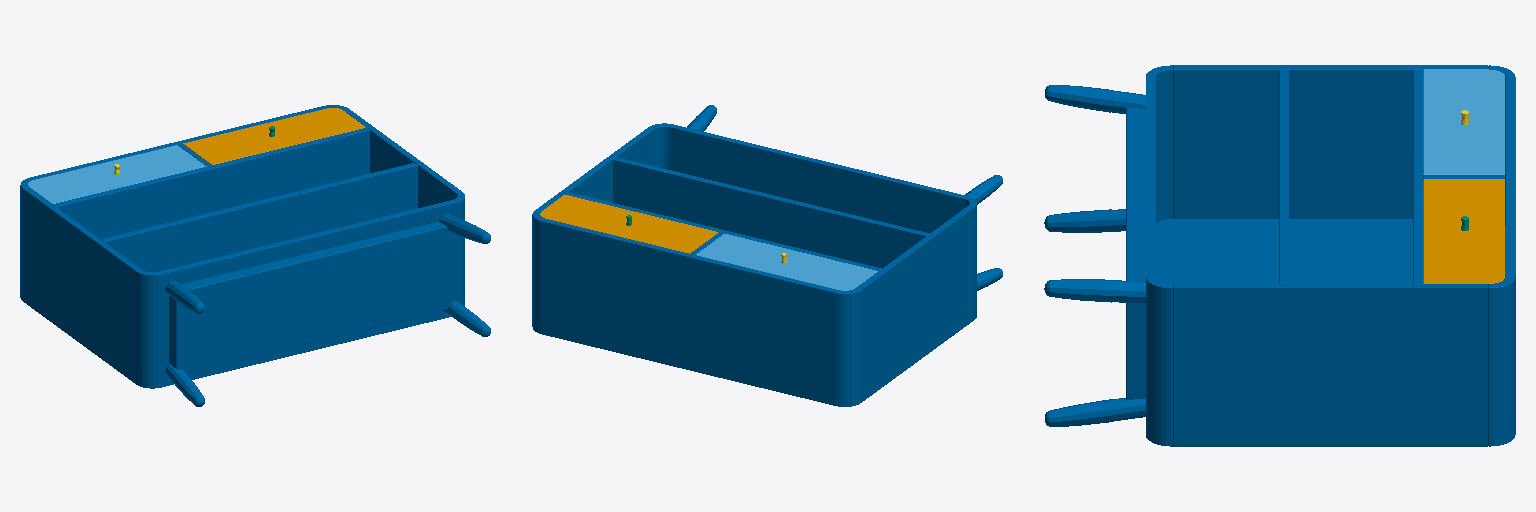
URDF robot description (articulated_object):
<?xml version="1.0" ?>
<robot name="articulated_object">
  <!-- Auto-generated from object.json -->
  <!-- Conversion script: convert_object_json_to_urdf.py -->
  <!-- Formula: mesh_origin = -joint_origin (for main parts) -->
  <!--          mesh_origin = -parent_joint_origin (for fixed children) -->
  <link name="drawer">
    <visual>
      <origin xyz="-0.352616 -0.503853 -0.208335" rpy="0 0 0"/>
      <geometry>
        <mesh filename="objs/2c681d7e64e0410d76156f500cd2df798975a25d_part_1.obj"/>
      </geometry>
    </visual>
    <collision>
      <origin xyz="-0.352616 -0.503853 -0.208335" rpy="0 0 0"/>
      <geometry>
        <mesh filename="objs/2c681d7e64e0410d76156f500cd2df798975a25d_part_1.obj"/>
      </geometry>
    </collision>
    <inertial>
      <origin xyz="-0.352616 -0.503853 -0.208335" rpy="0 0 0"/>
      <mass value="3.0"/>
      <inertia ixx="0.03" ixy="0" ixz="0" iyy="0.03" iyz="0" izz="0.03"/>
    </inertial>
  </link>
  <joint name="joint_drawer" type="prismatic">
    <parent link="base_link"/>
    <child link="drawer"/>
    <origin xyz="0.352616 0.503853 0.208335" rpy="0 0 0"/>
    <axis xyz="-1e-06 0.0 1.0"/>
    <limit lower="0.0" upper="0.2396457947170301" effort="10" velocity="1"/>
  </joint>
  <link name="drawer_1">
    <visual>
      <origin xyz="0.353037 -0.503853 -0.208334" rpy="0 0 0"/>
      <geometry>
        <mesh filename="objs/2c681d7e64e0410d76156f500cd2df798975a25d_part_2.obj"/>
      </geometry>
    </visual>
    <collision>
      <origin xyz="0.353037 -0.503853 -0.208334" rpy="0 0 0"/>
      <geometry>
        <mesh filename="objs/2c681d7e64e0410d76156f500cd2df798975a25d_part_2.obj"/>
      </geometry>
    </collision>
    <inertial>
      <origin xyz="0.353037 -0.503853 -0.208334" rpy="0 0 0"/>
      <mass value="3.0"/>
      <inertia ixx="0.03" ixy="0" ixz="0" iyy="0.03" iyz="0" izz="0.03"/>
    </inertial>
  </link>
  <joint name="joint_drawer_1" type="prismatic">
    <parent link="base_link"/>
    <child link="drawer_1"/>
    <origin xyz="-0.353037 0.503853 0.208334" rpy="0 0 0"/>
    <axis xyz="-1e-06 0.0 1.0"/>
    <limit lower="0.0" upper="0.2396454806736347" effort="10" velocity="1"/>
  </joint>
  <link name="knob">
    <visual>
      <origin xyz="-0.352616 -0.503853 -0.208335" rpy="0 0 0"/>
      <geometry>
        <mesh filename="objs/2c681d7e64e0410d76156f500cd2df798975a25d_part_3.obj"/>
      </geometry>
    </visual>
    <collision>
      <origin xyz="-0.352616 -0.503853 -0.208335" rpy="0 0 0"/>
      <geometry>
        <mesh filename="objs/2c681d7e64e0410d76156f500cd2df798975a25d_part_3.obj"/>
      </geometry>
    </collision>
    <inertial>
      <origin xyz="-0.352616 -0.503853 -0.208335" rpy="0 0 0"/>
      <mass value="0.1"/>
      <inertia ixx="0.001" ixy="0" ixz="0" iyy="0.001" iyz="0" izz="0.001"/>
    </inertial>
  </link>
  <joint name="joint_knob" type="fixed">
    <parent link="drawer"/>
    <child link="knob"/>
    <origin xyz="0.000000 0.000000 0.000000" rpy="0 0 0"/>
  </joint>
  <link name="knob_1">
    <visual>
      <origin xyz="0.353037 -0.503853 -0.208334" rpy="0 0 0"/>
      <geometry>
        <mesh filename="objs/2c681d7e64e0410d76156f500cd2df798975a25d_part_4.obj"/>
      </geometry>
    </visual>
    <collision>
      <origin xyz="0.353037 -0.503853 -0.208334" rpy="0 0 0"/>
      <geometry>
        <mesh filename="objs/2c681d7e64e0410d76156f500cd2df798975a25d_part_4.obj"/>
      </geometry>
    </collision>
    <inertial>
      <origin xyz="0.353037 -0.503853 -0.208334" rpy="0 0 0"/>
      <mass value="0.1"/>
      <inertia ixx="0.001" ixy="0" ixz="0" iyy="0.001" iyz="0" izz="0.001"/>
    </inertial>
  </link>
  <joint name="joint_knob_1" type="fixed">
    <parent link="drawer_1"/>
    <child link="knob_1"/>
    <origin xyz="0.000000 0.000000 0.000000" rpy="0 0 0"/>
  </joint>
  <link name="base_link">
    <visual>
      <origin xyz="-0.000000 -0.000000 -0.000000" rpy="0 0 0"/>
      <geometry>
        <mesh filename="objs/2c681d7e64e0410d76156f500cd2df798975a25d_part_5.obj"/>
      </geometry>
    </visual>
    <collision>
      <origin xyz="-0.000000 -0.000000 -0.000000" rpy="0 0 0"/>
      <geometry>
        <mesh filename="objs/2c681d7e64e0410d76156f500cd2df798975a25d_part_5.obj"/>
      </geometry>
    </collision>
    <inertial>
      <origin xyz="-0.000000 -0.000000 -0.000000" rpy="0 0 0"/>
      <mass value="10.0"/>
      <inertia ixx="0.1" ixy="0" ixz="0" iyy="0.1" iyz="0" izz="0.1"/>
    </inertial>
  </link>
</robot>

--- Facts derived from the render (not from the file) ---
Views: 3 orthographic renders of the robot side by side, from view 1: azimuth 30°, elevation 25°; view 2: azimuth 150°, elevation 25°; view 3: azimuth 270°, elevation 25°.
Robot: articulated_object — 5 links, 4 joints (2 prismatic, 2 fixed); root link base_link; default pose: all joints at 0.
Links seen in each view (by area): view 1: base_link, drawer, drawer_1; view 2: base_link, drawer, drawer_1; view 3: base_link, drawer_1, drawer.
Link boxes in pixels (x1,y1,x2,y2): base_link: (20, 105, 490, 406); drawer: (183, 108, 365, 164); drawer_1: (28, 145, 206, 203); base_link: (532, 105, 1002, 406); drawer: (540, 195, 718, 253); drawer_1: (696, 234, 877, 290); base_link: (1044, 65, 1515, 446); drawer_1: (1423, 69, 1504, 174); drawer: (1423, 179, 1504, 283).
Bounding box of the posed robot: 1.44 × 1.29 × 0.5145 m (x, y, z).
5 mesh visuals loaded from 5 distinct referenced files (5 OBJ).